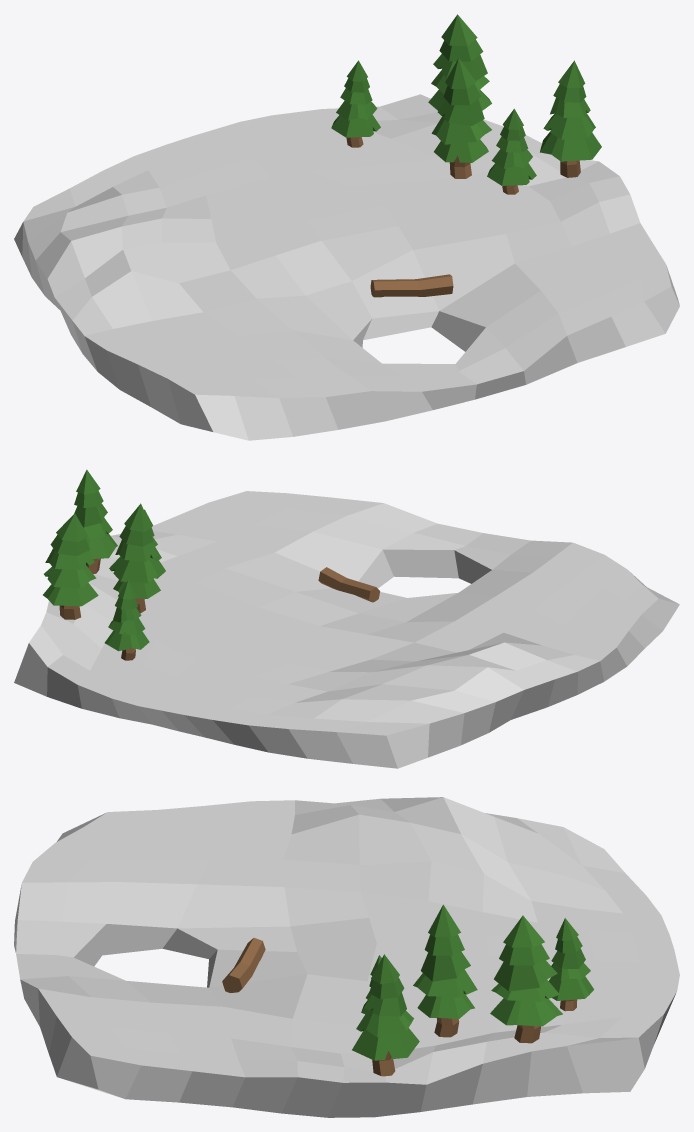
Rendered from FishingIsland.gltf.
The picture shows the model from 3 angles, top to bottom: view 1: azimuth 30°, elevation 25°; view 2: azimuth 150°, elevation 25°; view 3: azimuth 270°, elevation 25°; orthographic projection. The views are drawn at different scales.
Visible parts, largest first — view 1: Plane.001, Trunk2.005, Cylinder.015, Cylinder.002, Cylinder.014, Cylinder.001, Cylinder.003, Cylinder.010, Cylinder.021, Cylinder.016, Cylinder.018, Cylinder.017; view 2: Plane.001, Cylinder.002, Trunk2.005, Cylinder.020, Cylinder.019, Cylinder.018, Cylinder.021, Cylinder.003, Cylinder.015, Cylinder.016, Cylinder.013, Cylinder.017 (+3 smaller); view 3: Plane.001, Cylinder.020, Cylinder.015, Cylinder.018, Trunk2.005, Cylinder.002, Cylinder.001, Cylinder.003, Cylinder.014, Cylinder.017, Cylinder.019, Cylinder.021 (+7 smaller).
Boxes of the visible parts, bbox=[...] form: Plane.001: bbox=[14, 94, 679, 440]; Trunk2.005: bbox=[370, 274, 453, 297]; Cylinder.015: bbox=[540, 131, 601, 161]; Cylinder.002: bbox=[431, 115, 491, 144]; Cylinder.014: bbox=[543, 113, 595, 139]; Cylinder.001: bbox=[434, 139, 488, 162]; Cylinder.003: bbox=[437, 99, 484, 125]; Cylinder.010: bbox=[487, 163, 536, 185]; Cylinder.021: bbox=[331, 115, 380, 137]; Cylinder.016: bbox=[441, 14, 477, 45]; Cylinder.018: bbox=[433, 54, 487, 80]; Cylinder.017: bbox=[439, 39, 483, 61]; Plane.001: bbox=[14, 491, 679, 768]; Cylinder.002: bbox=[109, 556, 162, 583]; Trunk2.005: bbox=[318, 567, 380, 602]; Cylinder.020: bbox=[43, 582, 98, 606]; Cylinder.019: bbox=[44, 565, 96, 588]; Cylinder.018: bbox=[45, 548, 94, 570]; Cylinder.021: bbox=[104, 631, 149, 651]; Cylinder.003: bbox=[115, 540, 157, 561]; Cylinder.015: bbox=[86, 534, 117, 558]; Cylinder.016: bbox=[56, 513, 88, 541]; Cylinder.013: bbox=[74, 503, 107, 527]; Cylinder.017: bbox=[50, 535, 89, 555]; Plane.001: bbox=[14, 797, 679, 1117]; Cylinder.020: bbox=[490, 998, 562, 1026]; Cylinder.015: bbox=[352, 1028, 419, 1060]; Cylinder.018: bbox=[494, 960, 557, 991]; Trunk2.005: bbox=[222, 938, 265, 992]; Cylinder.002: bbox=[413, 969, 477, 997]; Cylinder.001: bbox=[417, 994, 474, 1019]; Cylinder.003: bbox=[421, 951, 470, 981]; Cylinder.014: bbox=[358, 1008, 413, 1037]; Cylinder.017: bbox=[499, 944, 549, 965]; Cylinder.019: bbox=[491, 980, 559, 1001]; Cylinder.021: bbox=[549, 976, 593, 1000].
Size of the model in its own units: 24.73 by 7.21 by 23.98.
